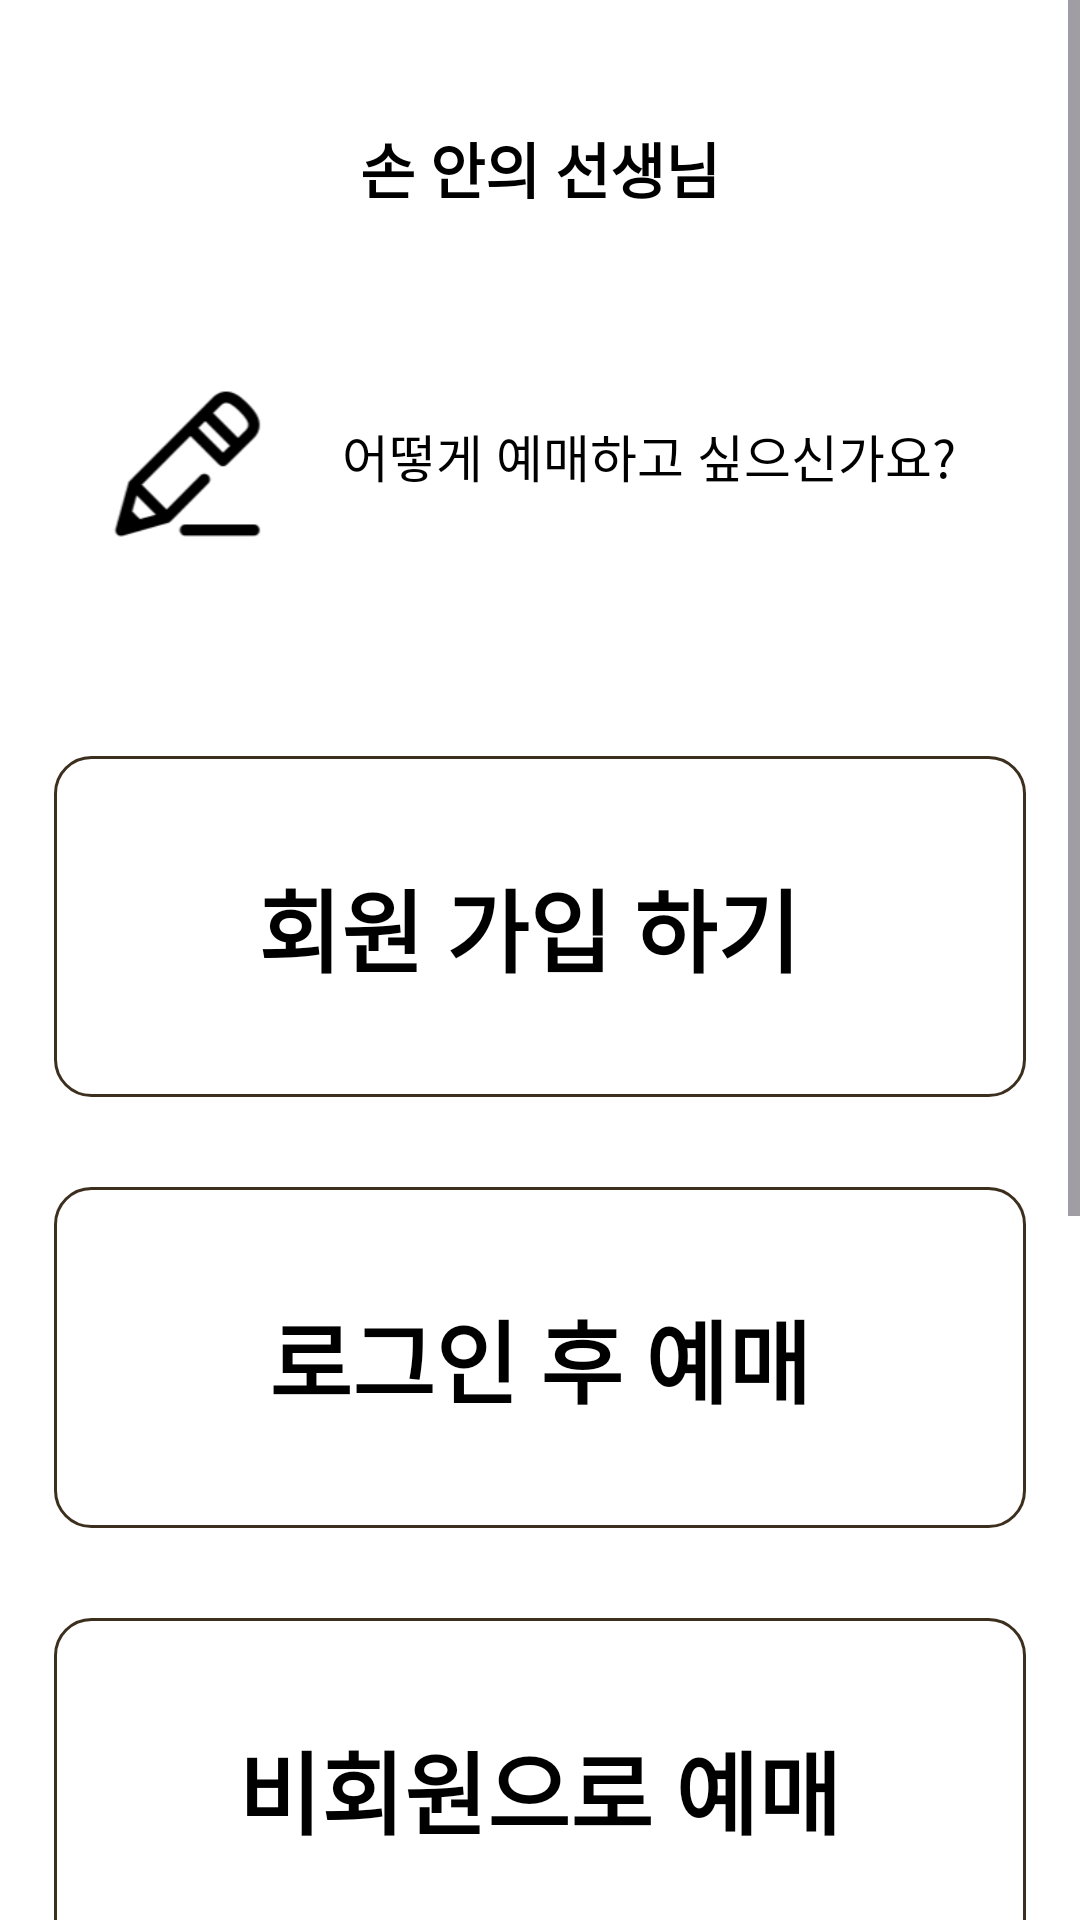

Icons on this 1080 x 1920 Android screen, each with its box as (x1, y1, x2, y2):
연필 아이콘: (114, 391, 261, 537)
